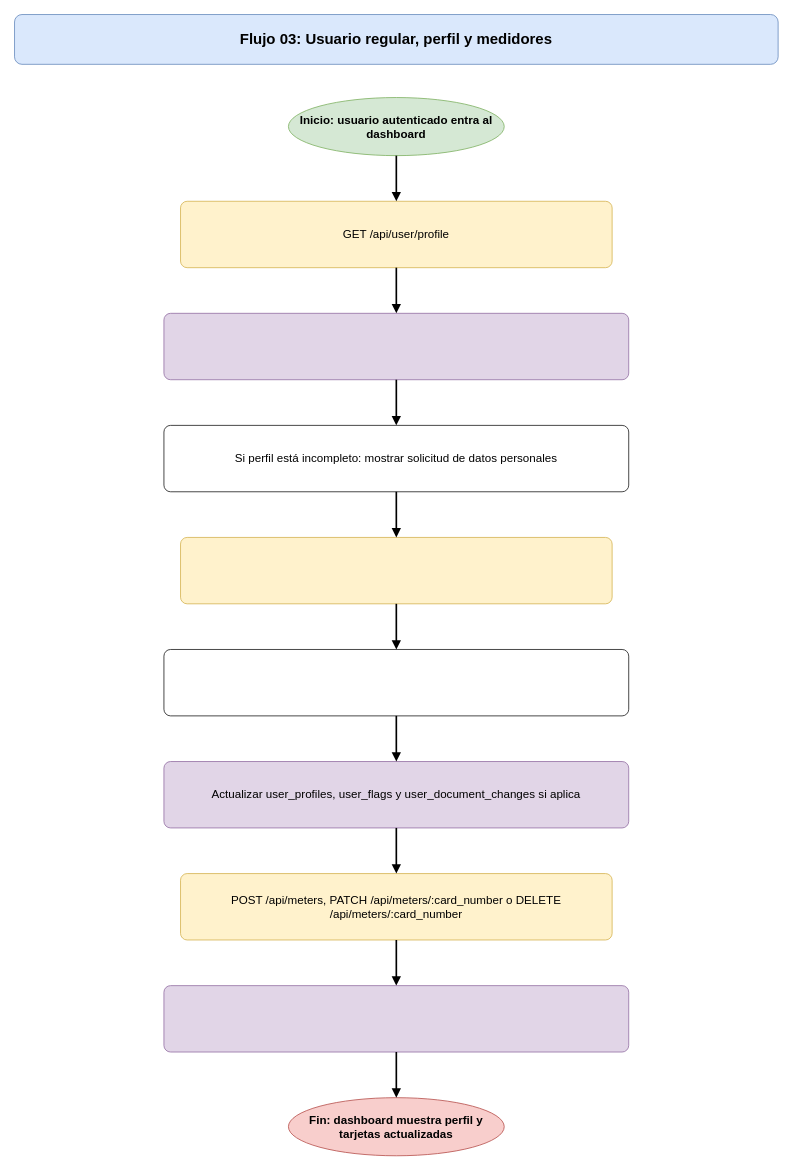
This 793x1170 diagram has some shape labels left out. Here are the shapes that lost their labels. From the top down, the centre of each, then its label:
(396,346): Cargar usuario, perfil, tarjetas y recargas propias
(396,570): PUT /api/user/profile para actualizar datos personales
(396,682): Validar campos requeridos, documento, teléfono y límite de cambio documental
(396,1018): Crear, reclamar, renombrar o liberar energy_cards según operación
